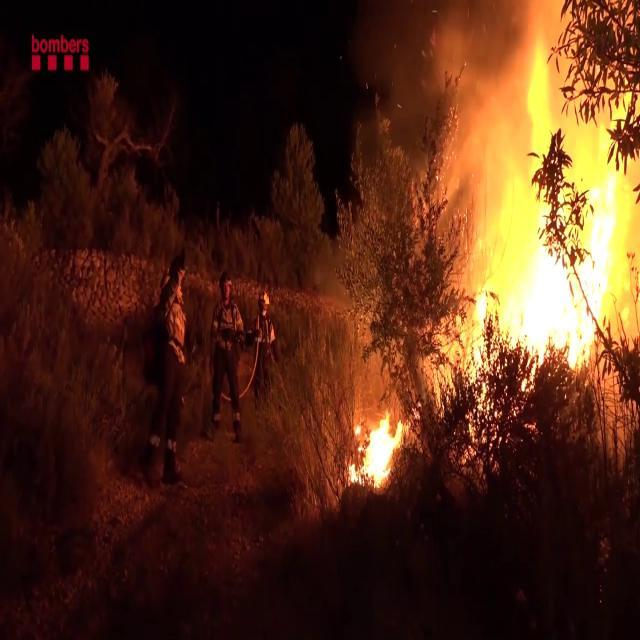Fire: (428, 22, 638, 412), (350, 403, 402, 488)
Smoke: (364, 0, 528, 212)
